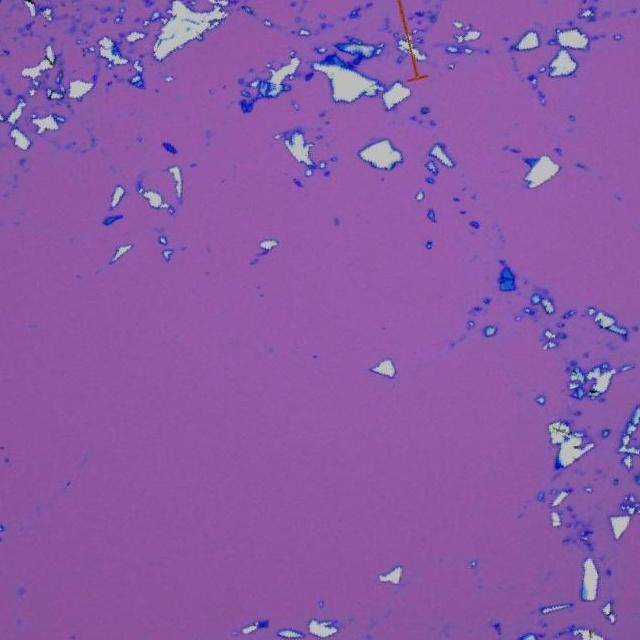monolayer-eWW4: (334, 215, 341, 226)
